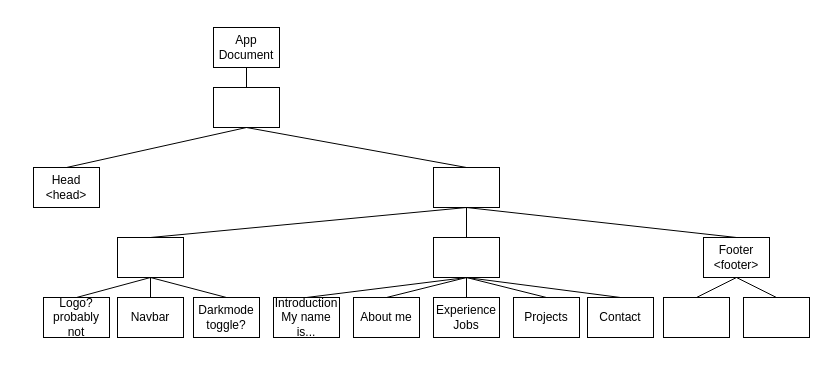
The diagram is 836 pixels wide and 366 high, and some of its shapes have lost their labels. Each missing label, with the centre of its shape:
Body <body>: the point at 466,187
Created by: the point at 696,317
Header <header>: the point at 150,257
Links: the point at 776,317
Main: the point at 466,257
Root <html>: the point at 246,107
